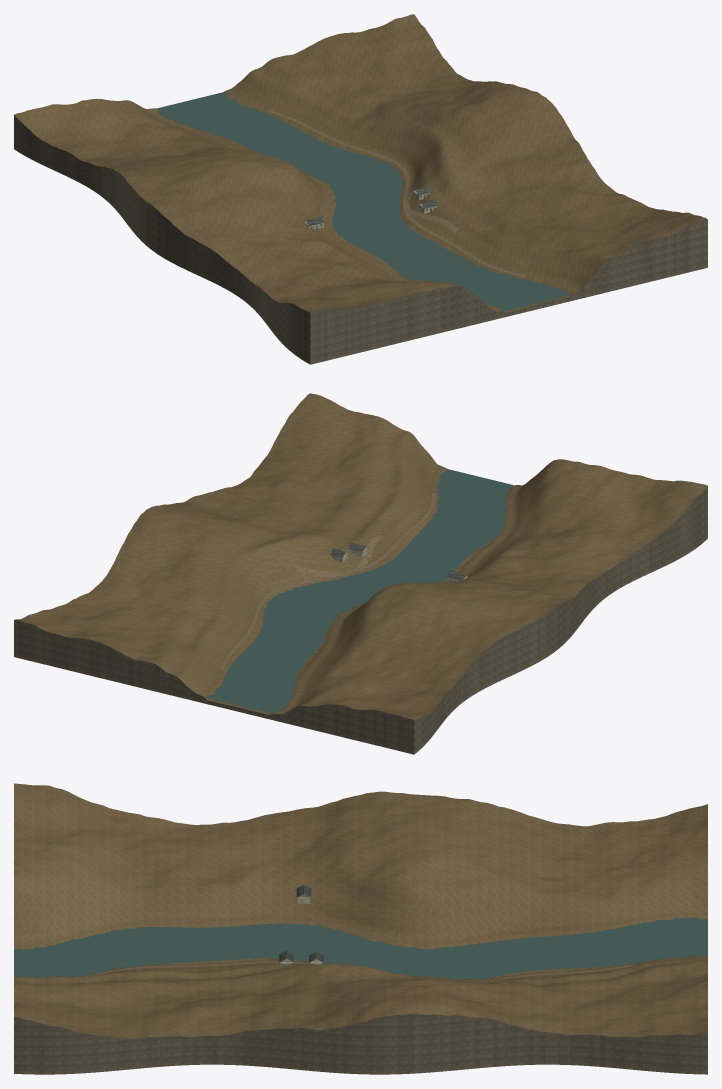
Rendered from ch01_yudu_departure.glb.
3 renders of one model, top to bottom at view 1: azimuth 30°, elevation 25°; view 2: azimuth 150°, elevation 25°; view 3: azimuth 270°, elevation 25°, orthographic. The views are drawn at different scales.
Parts seen in each view (by area): view 1: terrain__eroded_landscape, terrain_boundary__closed_earth_boundary, water_placeholder__river_waterline, bank_path__bank_path; view 2: terrain__eroded_landscape, terrain_boundary__closed_earth_boundary, water_placeholder__river_waterline, bank_path__bank_path, assembly_route__assembly_route; view 3: terrain__eroded_landscape, terrain_boundary__closed_earth_boundary, water_placeholder__river_waterline, bank_path__bank_path.
Boxes of the visible parts, <box> form: terrain__eroded_landscape: <box>14,14,707,312</box>; terrain_boundary__closed_earth_boundary: <box>14,115,707,364</box>; water_placeholder__river_waterline: <box>156,92,569,311</box>; bank_path__bank_path: <box>268,110,525,276</box>; terrain__eroded_landscape: <box>15,393,707,719</box>; terrain_boundary__closed_earth_boundary: <box>14,486,707,754</box>; water_placeholder__river_waterline: <box>205,469,514,713</box>; bank_path__bank_path: <box>220,493,435,670</box>; assembly_route__assembly_route: <box>295,535,384,576</box>; terrain__eroded_landscape: <box>14,783,707,1039</box>; terrain_boundary__closed_earth_boundary: <box>14,1013,707,1074</box>; water_placeholder__river_waterline: <box>14,917,707,979</box>; bank_path__bank_path: <box>85,961,633,979</box>.
Bounding box in the file's own units: 219 × 27.86 × 280.
Materials: 6 (5 with a texture image).
